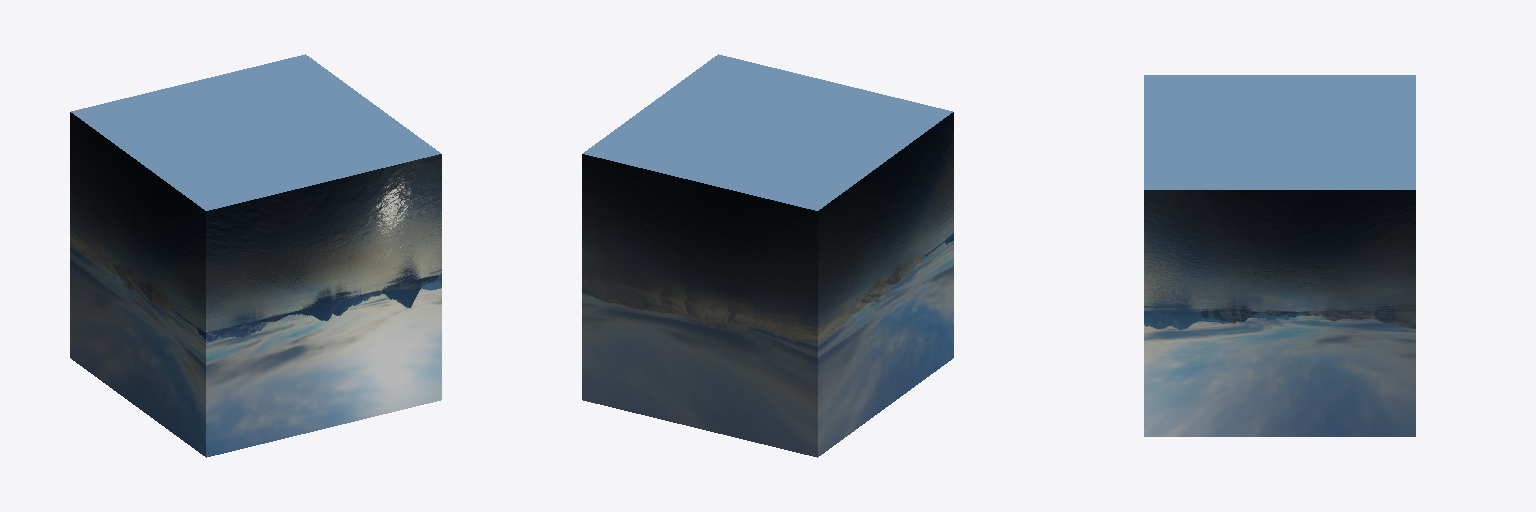
The picture shows the model from 3 angles: view 1: azimuth 30°, elevation 25°; view 2: azimuth 150°, elevation 25°; view 3: azimuth 270°, elevation 25°; orthographic projection.
Parts seen in each view (by area): view 1: cube; view 2: cube; view 3: cube.
Part boxes in pixels (left/top/right/bottom): cube: left=70, top=54, right=441, bottom=457; cube: left=582, top=54, right=953, bottom=457; cube: left=1144, top=75, right=1415, bottom=436.
Size of the model in its own units: 1 by 1 by 1.
Materials: 6 (6 with a texture image).